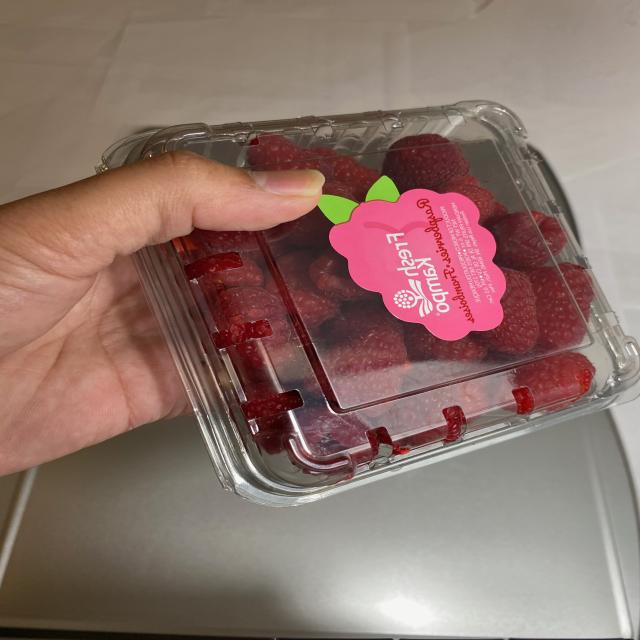raspberries: (232, 122, 626, 454)
